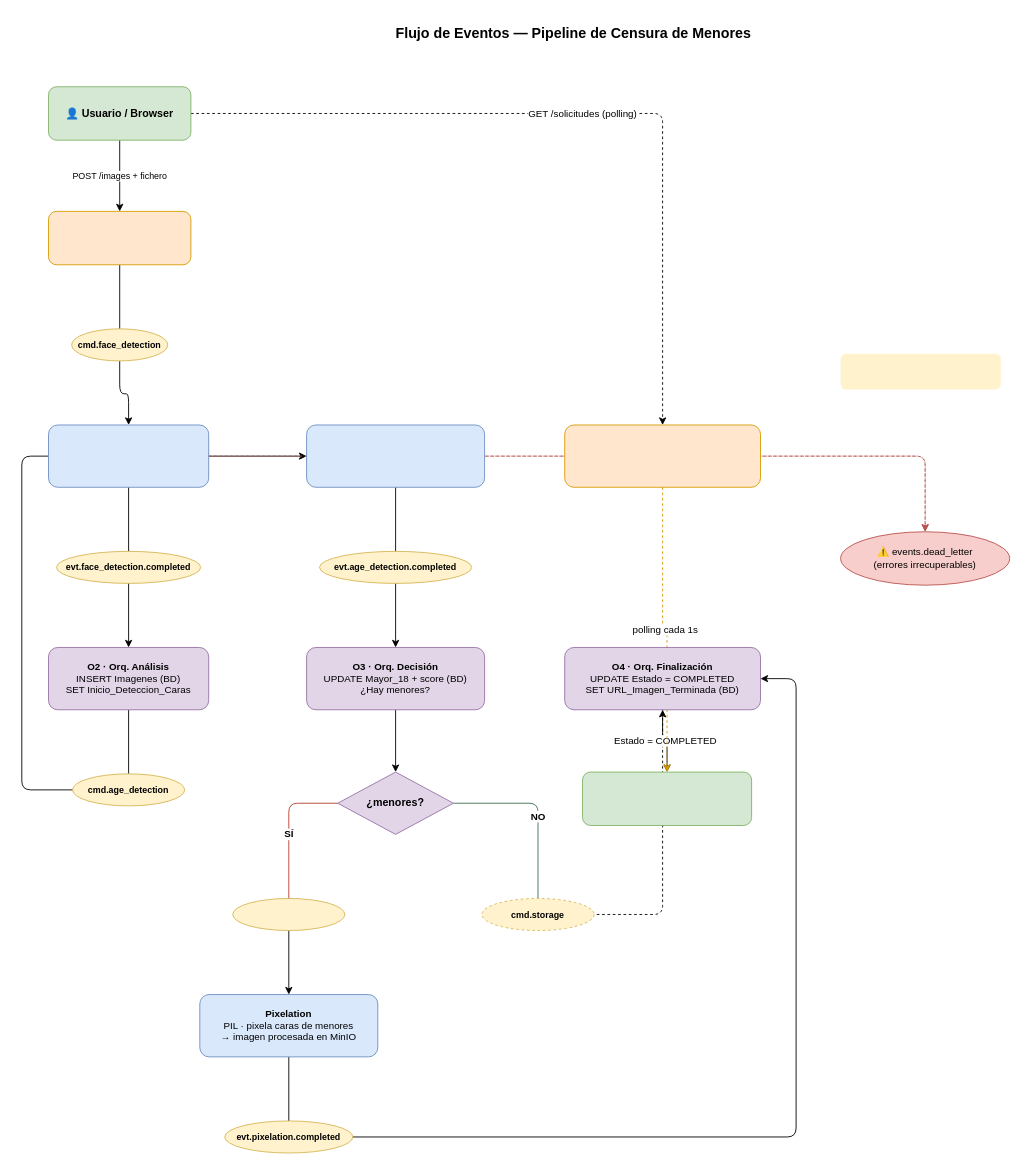
Some shapes in this 1025 by 1170 pixel diagram are drawn without their labels. The centre of each missing label's shape, as x and y in pixels:
"Age Detection MobileNetV2 → estimated_age + confidence" goes at point (395, 455).
"API Consulta :8002 · GET /solicitudes/{guid} → estado + caras + download_url" goes at point (662, 455).
"API Ingesta :8001 · POST /images" goes at point (119, 237).
"cmd.pixelation" goes at point (288, 914).
"Face Detection YOLOv8-face → coordenadas (x,y,w,h)" goes at point (128, 455).
"⚡ Kafka (todos los topics)" goes at point (920, 371).
"✅ COMPLETED Imagen pixelada disponible" goes at point (667, 798).
